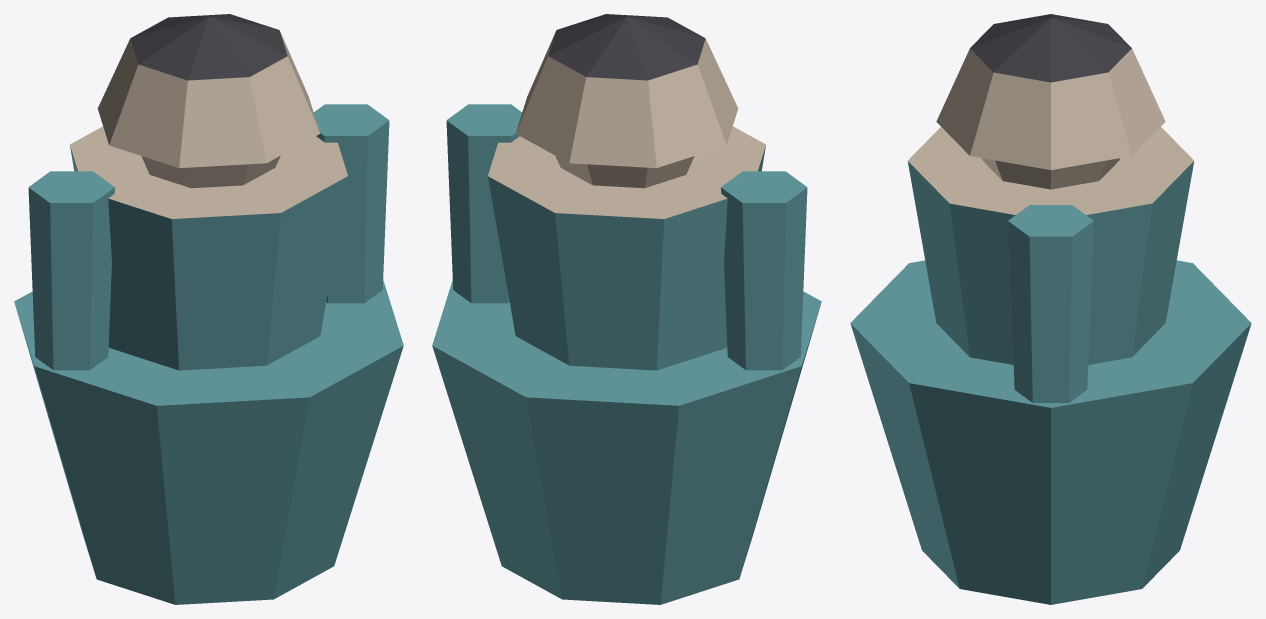
The model's file is follower_adept.glb.
3 views of the same model, side by side, from view 1: azimuth 30°, elevation 25°; view 2: azimuth 150°, elevation 25°; view 3: azimuth 270°, elevation 25° (orthographic).
Parts seen in each view (by area): view 1: Follower; view 2: Follower; view 3: Follower.
Boxes of the visible parts, x1=… form: Follower: x1=14, y1=14, x2=403, y2=604; Follower: x1=432, y1=14, x2=821, y2=604; Follower: x1=850, y1=14, x2=1251, y2=604.
Bounding box in the file's own units: 0.56 × 0.82 × 0.56.
